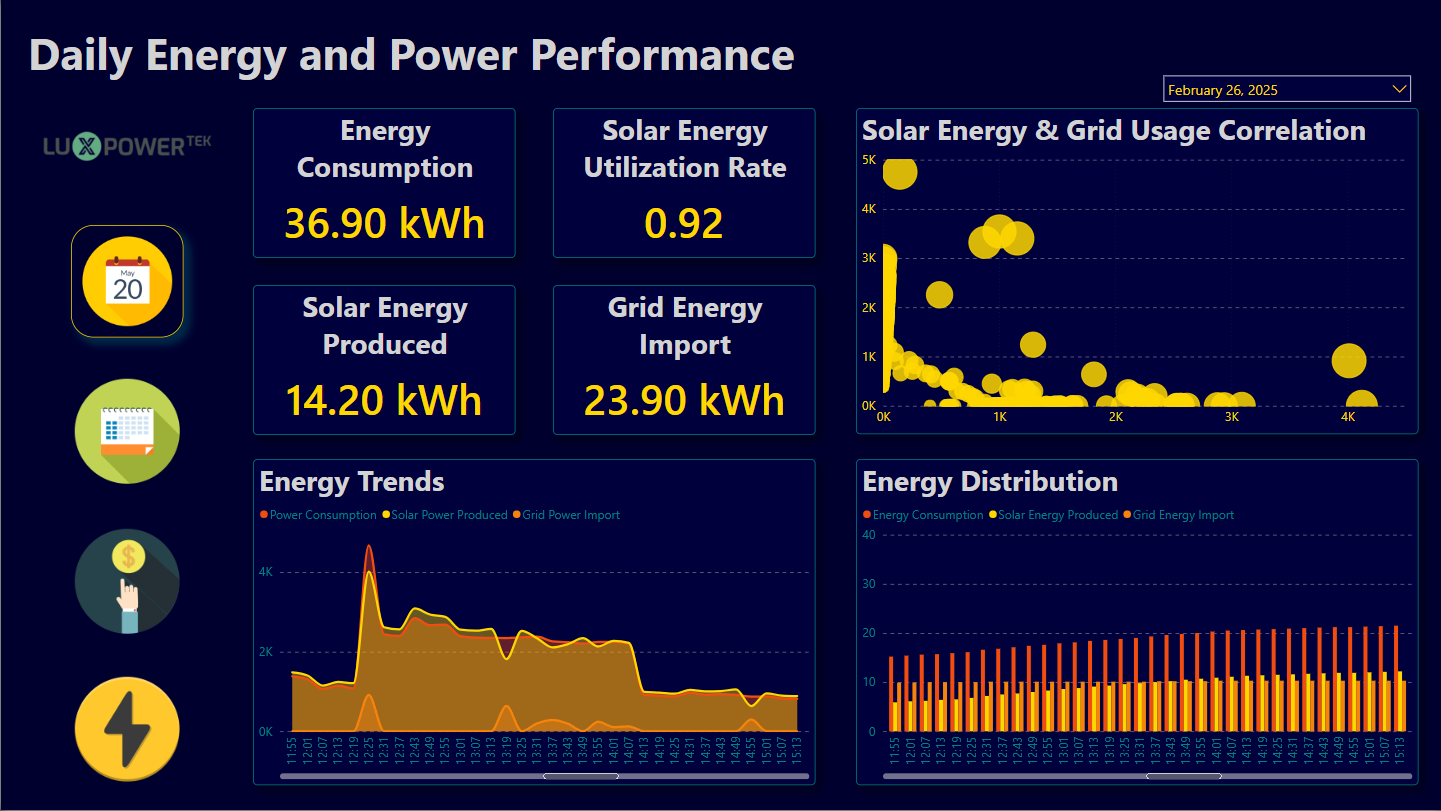

This screenshot's page, from the dashboard's own definition file:
{"tool":"powerbi","page":{"name":"Daily Energy & Power Performance","canvas":[1920,1080],"ordinal":1},"visuals":[{"type":"textbox","box":[30,25,1300,90],"z":0},{"type":"card","title":"Energy Consumption","fields":{"Values":["luxpower._Total_Energy_Consumption_Text"]},"box":[336.4,144.6,350,200],"z":1000},{"type":"image","box":[0,144.6,336,100],"z":2000},{"type":"card","title":"Solar Energy Utilization Rate","fields":{"Values":["luxpower._Solar_Utilization_Efficiency"]},"box":[736.4,144.6,350,200],"z":3000},{"type":"card","title":"Grid Energy Import","fields":{"Values":["luxpower._Total_Grid_Import_Text"]},"box":[736.4,379.7,350,200],"z":4000},{"type":"card","title":"Solar Energy Produced","fields":{"Values":["luxpower._Total_Solar_Energy_Produced_Text"]},"box":[336.4,379.7,350,200],"z":5000},{"type":"slicer","fields":{"Values":["luxpower._FormattedDate"]},"box":[1540.3,90.5,350,50],"z":6000},{"type":"clusteredColumnChart","title":"Energy Distribution","fields":{"Category":["luxpower.TimeOnly"],"Y":["Sum(luxpower.Energy Consumption)","Sum(luxpower.Solar Energy Produced)","Sum(luxpower.Grid Energy Import)"]},"box":[1140.4,612.1,749.9,435.1],"z":7000},{"type":"areaChart","title":"Energy Trends","fields":{"Category":["luxpower.TimeOnly"],"Y":["Sum(luxpower.Power Consumption)","Sum(luxpower.Solar Power Produced)","Sum(luxpower.Grid Power Import)"]},"box":[336.4,612.1,749.9,435.1],"z":8000},{"type":"scatterChart","title":"Solar Energy & Grid Usage Correlation","fields":{"Category":["luxpower.TimeOnly"],"Size":["Sum(luxpower.Power Consumption)"],"X":["Sum(luxpower.Solar Power Produced)"],"Y":["Sum(luxpower.Grid Power Import)"]},"box":[1140.4,144.6,749.9,435.1],"z":9000},{"type":"image","box":[93.5,500,150.1,150.1],"z":10000},{"type":"image","box":[93.5,300,150.1,150.1],"z":11000},{"type":"image","box":[93.5,896.9,150.1,150.1],"z":12000},{"type":"image","box":[93.5,700,150.1,150.1],"z":13000}]}

Visuals, with their boxes in screenshot pixels (x1, y1, x2, y2), scaled from the page's 1920x1080 canvas onto the 1441x811 screenshot:
textbox: x1=23 y1=19 x2=998 y2=86
"Energy Consumption" card: x1=252 y1=109 x2=515 y2=259
image: x1=0 y1=109 x2=252 y2=184
"Solar Energy Utilization Rate" card: x1=553 y1=109 x2=815 y2=259
"Grid Energy Import" card: x1=553 y1=285 x2=815 y2=435
"Solar Energy Produced" card: x1=252 y1=285 x2=515 y2=435
slicer - luxpower._FormattedDate: x1=1156 y1=68 x2=1419 y2=106
"Energy Distribution" clusteredColumnChart: x1=856 y1=460 x2=1419 y2=786
"Energy Trends" areaChart: x1=252 y1=460 x2=815 y2=786
"Solar Energy & Grid Usage Correlation" scatterChart: x1=856 y1=109 x2=1419 y2=435
image: x1=70 y1=375 x2=183 y2=488
image: x1=70 y1=225 x2=183 y2=338
image: x1=70 y1=674 x2=183 y2=786
image: x1=70 y1=526 x2=183 y2=638
